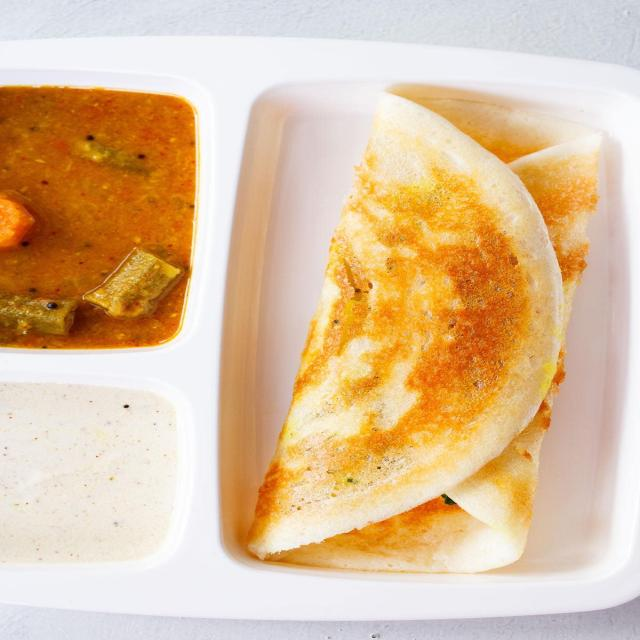plain dosa: (244, 87, 619, 592)
